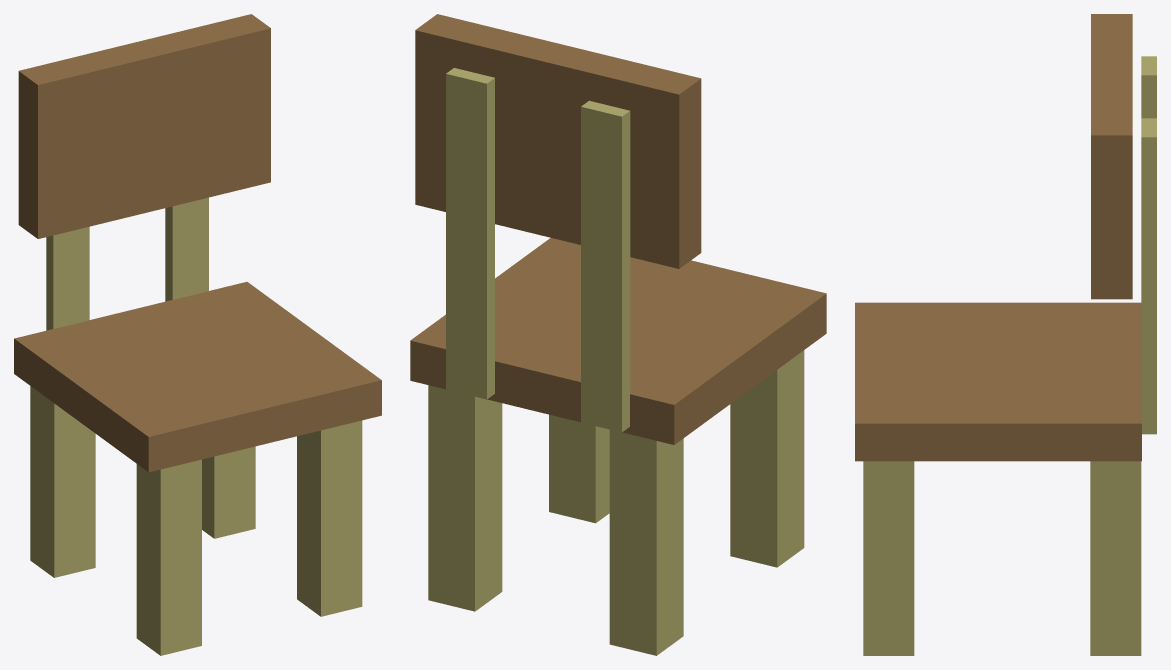
Rendered from chair.fbx.
3 renders of one model, left to right at view 1: azimuth 30°, elevation 25°; view 2: azimuth 150°, elevation 25°; view 3: azimuth 270°, elevation 25°, orthographic. The views are drawn at different scales.
Visible parts, largest first — view 1: Cube.002, Cube, Cube.001; view 2: Cube.002, Cube.001, Cube; view 3: Cube, Cube.002, Cube.001.
Part boxes in pixels (x1=…): Cube.002: x1=30, y1=197, x2=362, y2=655; Cube: x1=14, y1=282, x2=381, y2=472; Cube.001: x1=18, y1=14, x2=270, y2=238; Cube.002: x1=428, y1=68, x2=804, y2=655; Cube.001: x1=415, y1=14, x2=701, y2=268; Cube: x1=410, y1=238, x2=826, y2=444; Cube: x1=855, y1=302, x2=1141, y2=461; Cube.002: x1=863, y1=56, x2=1156, y2=655; Cube.001: x1=1091, y1=14, x2=1132, y2=299.
Size of the model in its own units: 298 by 607 by 314.
